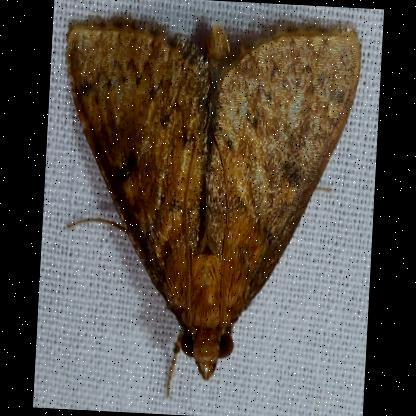Asian Corn Borer Moth: (43, 3, 369, 411)
